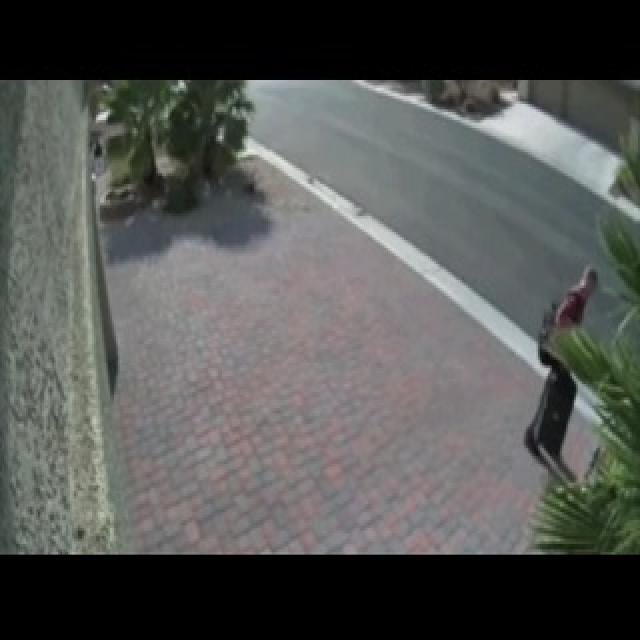thief: (553, 246, 602, 457)
